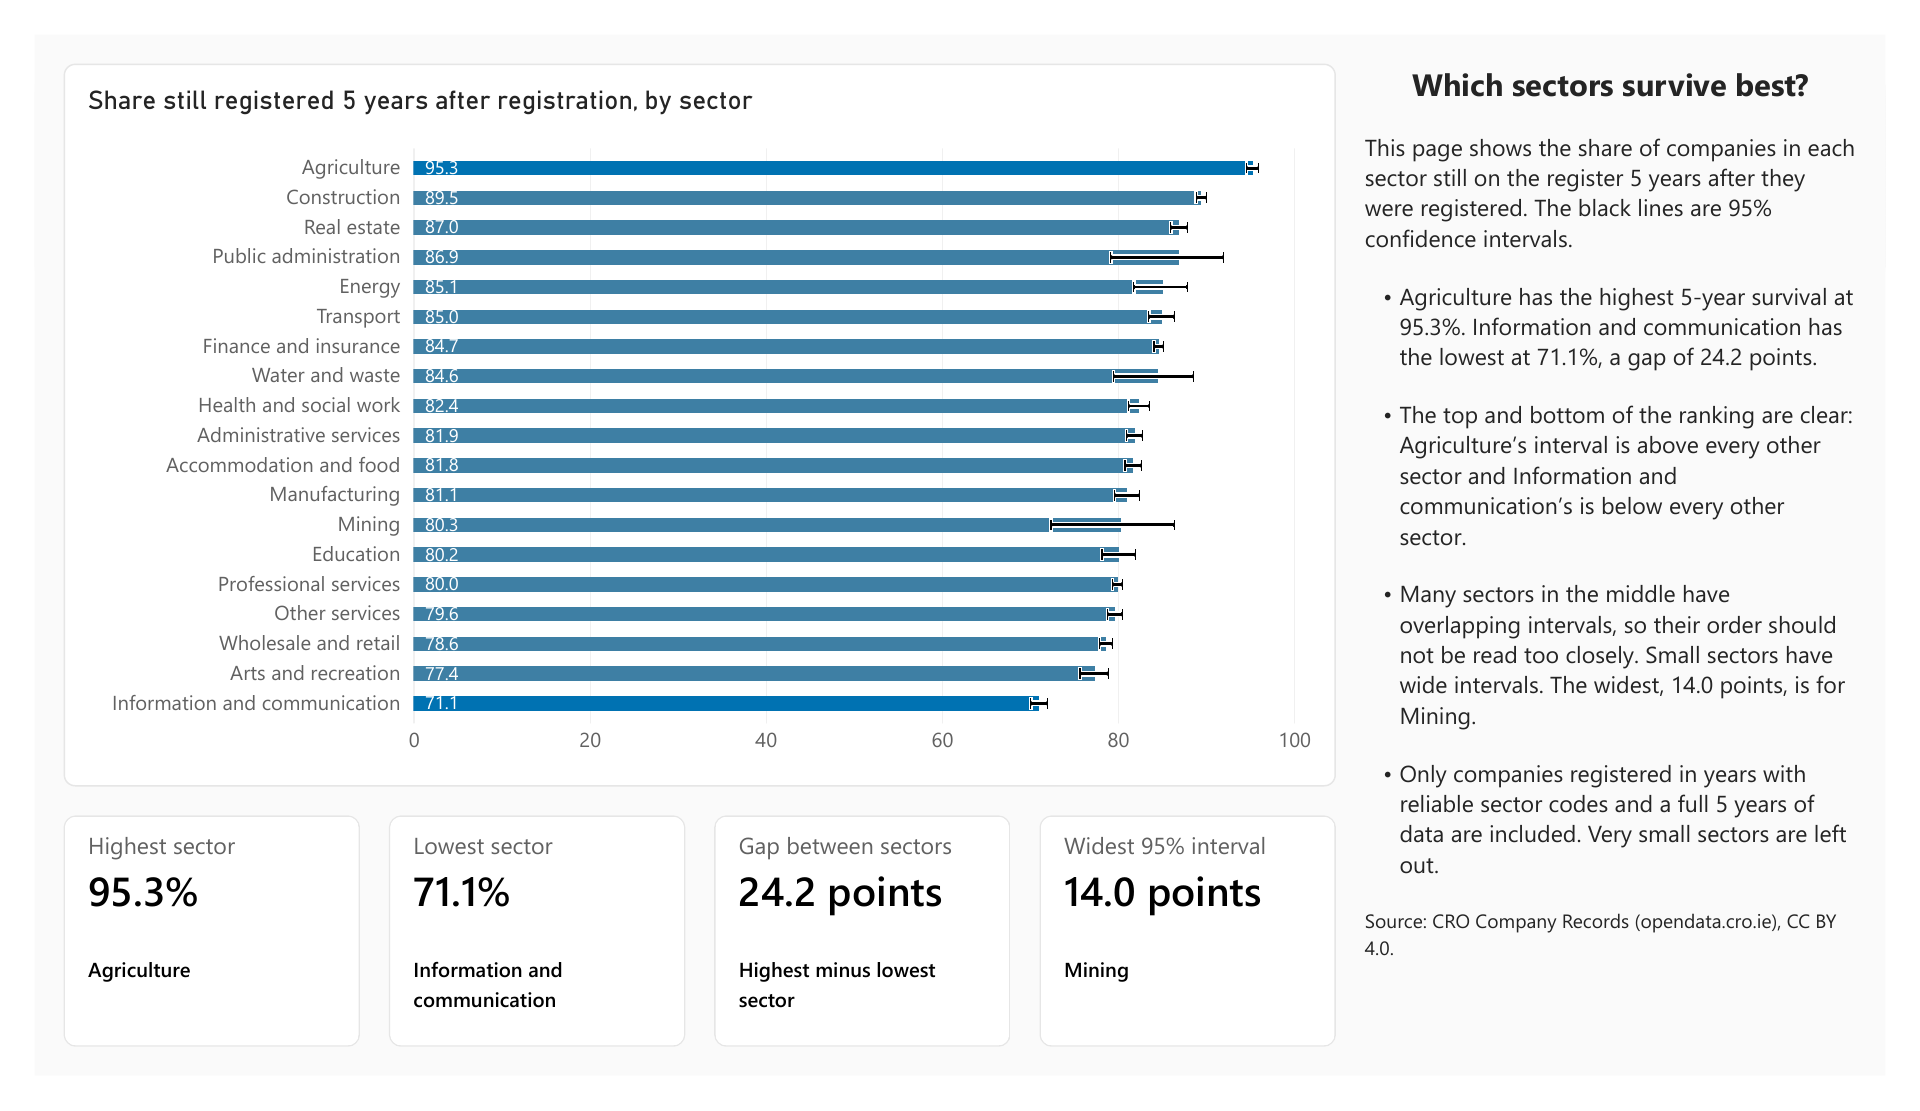

The dashboard page shown, as its layout file describes it:
{"tool":"powerbi","page":{"name":"Sectors","canvas":[1280,720],"ordinal":3},"visuals":[{"type":"cardVisual","fields":{"Data":["sector_survival.Highest sector survival (label)"]},"box":[20,540,205,160],"z":0},{"type":"cardVisual","fields":{"Data":["sector_survival.Lowest sector survival (label)"]},"box":[245,540,205,160],"z":1000},{"type":"cardVisual","fields":{"Data":["sector_survival.Sector gap (label)"]},"box":[470,540,205,160],"z":2000},{"type":"cardVisual","fields":{"Data":["sector_survival.Widest interval (label)"]},"box":[695,540,205,160],"z":3000},{"type":"textbox","box":[920,20,340,680],"z":4000},{"type":"clusteredBarChart","title":"Share still registered 5 years after registration, by sector","fields":{"Category":["sector_survival.section_name"],"Y":["sector_survival.Sector 5-year survival %"]},"box":[20,20,880,500],"z":5000}]}

Visuals, with their boxes in screenshot pixels (x1, y1, x2, y2), scaled from the page's 1280x720 canvas onto the 1920x1111 screenshot:
cardVisual - sector_survival.Highest sector survival (label): crop(30, 833, 338, 1080)
cardVisual - sector_survival.Lowest sector survival (label): crop(368, 833, 675, 1080)
cardVisual - sector_survival.Sector gap (label): crop(705, 833, 1012, 1080)
cardVisual - sector_survival.Widest interval (label): crop(1042, 833, 1350, 1080)
textbox: crop(1380, 31, 1890, 1080)
"Share still registered 5 years after registration, by sector" clusteredBarChart: crop(30, 31, 1350, 802)
